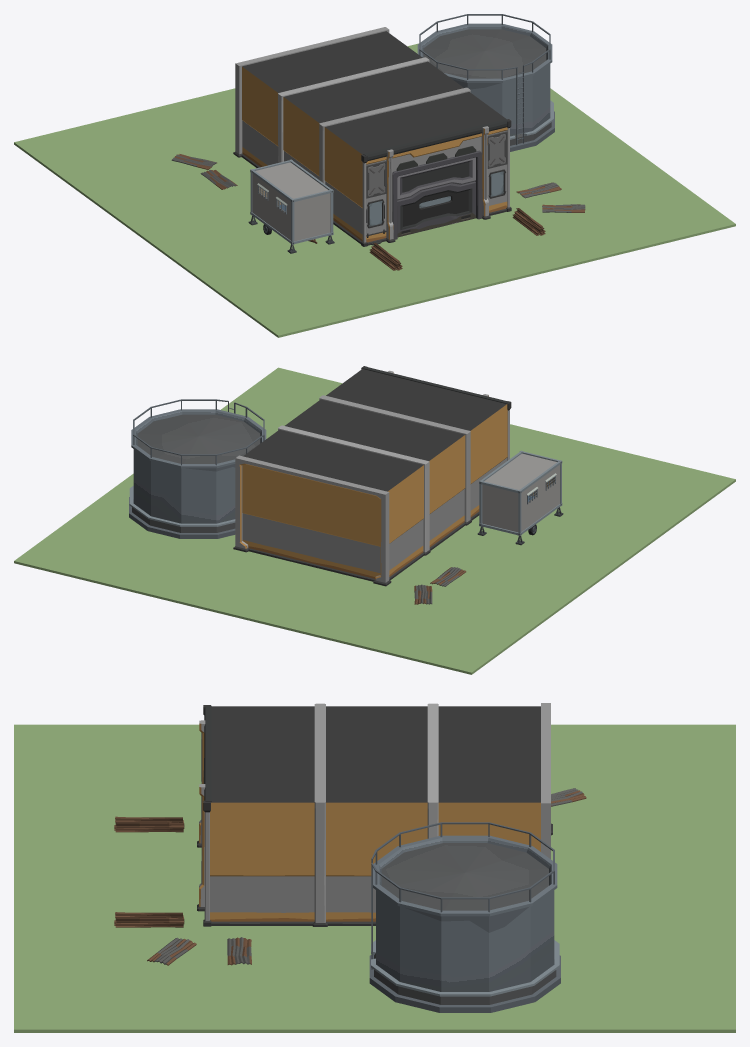
The model's file is composite-plant.glb.
3 renders of one model, top to bottom at view 1: azimuth 30°, elevation 25°; view 2: azimuth 150°, elevation 25°; view 3: azimuth 270°, elevation 25°, orthographic. The views are drawn at different scales.
Visible parts, largest first — view 1: Ground, Warehouse_Main, WaterTank, Admin_Office; view 2: Ground, Warehouse_Main, WaterTank, Admin_Office; view 3: Ground, Warehouse_Main, WaterTank, BeamStack_1, BeamStack_0, Sheet_3, Sheet_2.
Part boxes in pixels (left/top/right/bottom): Ground: left=14, top=43, right=735, bottom=337; Warehouse_Main: left=233, top=27, right=511, bottom=246; WaterTank: left=417, top=14, right=554, bottom=151; Admin_Office: left=248, top=159, right=334, bottom=253; Ground: left=14, top=367, right=735, bottom=674; Warehouse_Main: left=233, top=366, right=511, bottom=586; WaterTank: left=129, top=399, right=266, bottom=538; Admin_Office: left=477, top=450, right=563, bottom=545; Ground: left=14, top=724, right=735, bottom=1032; Warehouse_Main: left=197, top=703, right=552, bottom=926; WaterTank: left=369, top=822, right=560, bottom=1012; BeamStack_1: left=114, top=912, right=184, bottom=927; BeamStack_0: left=114, top=816, right=184, bottom=832; Sheet_3: left=147, top=937, right=196, bottom=965; Sheet_2: left=227, top=937, right=251, bottom=965.
Bounding box in the file's own units: 32 × 6.22 × 32.
Materials: 3 (2 with a texture image).
